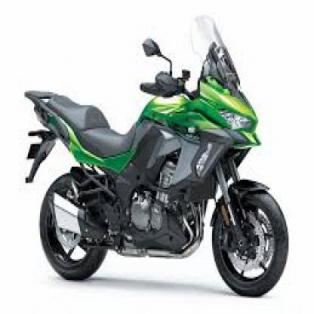Motocicleta: (15, 13, 290, 300)
